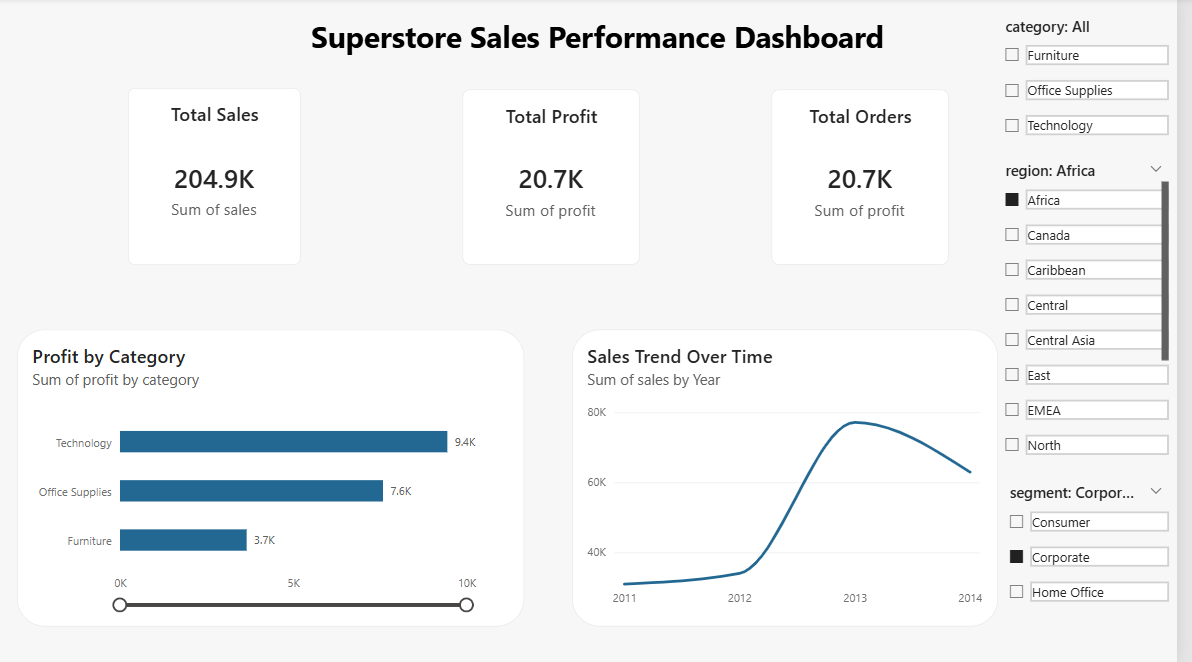

What the dashboard file says about the page in this screenshot:
{"tool":"powerbi","page":{"name":"Executive Overview","canvas":[1280,720],"ordinal":0},"visuals":[{"type":"card","title":"Total Sales","fields":{"Values":["Sum(Table1.sales)"]},"box":[143.1,97.6,187.1,191.9],"z":0},{"type":"card","title":"Total Profit","fields":{"Values":["Sum(Table1.profit)"]},"box":[505.9,99.2,191.9,190.3],"z":1000},{"type":"card","title":"Total Orders","fields":{"Values":["Sum(Table1.profit)"]},"box":[840.9,99.2,191.9,190.3],"z":2000},{"type":"lineChart","title":"Sales Trend Over Time","fields":{"Category":["Table1.order_date.Variation.Date Hierarchy.Year","Table1.order_date.Variation.Date Hierarchy.Quarter","Table1.order_date.Variation.Date Hierarchy.Month","Table1.order_date.Variation.Date Hierarchy.Day"],"Y":["Sum(Table1.sales)"]},"box":[624.6,359.5,461.9,322.1],"z":3000},{"type":"clusteredBarChart","title":"Profit by Category","fields":{"Category":["Table1.category"],"Y":["Sum(Table1.profit)"]},"box":[22.8,359.5,549.8,322.1],"z":4000},{"type":"slicer","fields":{"Values":["Table1.region"]},"box":[1086.5,175.7,185.4,333.4],"z":5000},{"type":"slicer","fields":{"Values":["Table1.category"]},"box":[1086.5,19.5,185.4,156.1],"z":6000},{"type":"slicer","fields":{"Values":["Table1.segment"]},"box":[1091.4,525.4,180.5,156.1],"z":7000},{"type":"textbox","box":[165.9,19.5,972.7,61.8],"z":8000}]}

Visuals, with their boxes on the page's 1280x720 design canvas (x1, y1, x2, y2). These are canvas units, not pixel positions in the 1192x662 screenshot, which may show the page scaled, cropped or inside an application window:
"Total Sales" card: 143/98/330/290
"Total Profit" card: 506/99/698/290
"Total Orders" card: 841/99/1033/290
"Sales Trend Over Time" lineChart: 625/360/1086/682
"Profit by Category" clusteredBarChart: 23/360/573/682
slicer - Table1.region: 1086/176/1272/509
slicer - Table1.category: 1086/20/1272/176
slicer - Table1.segment: 1091/525/1272/682
textbox: 166/20/1139/81
